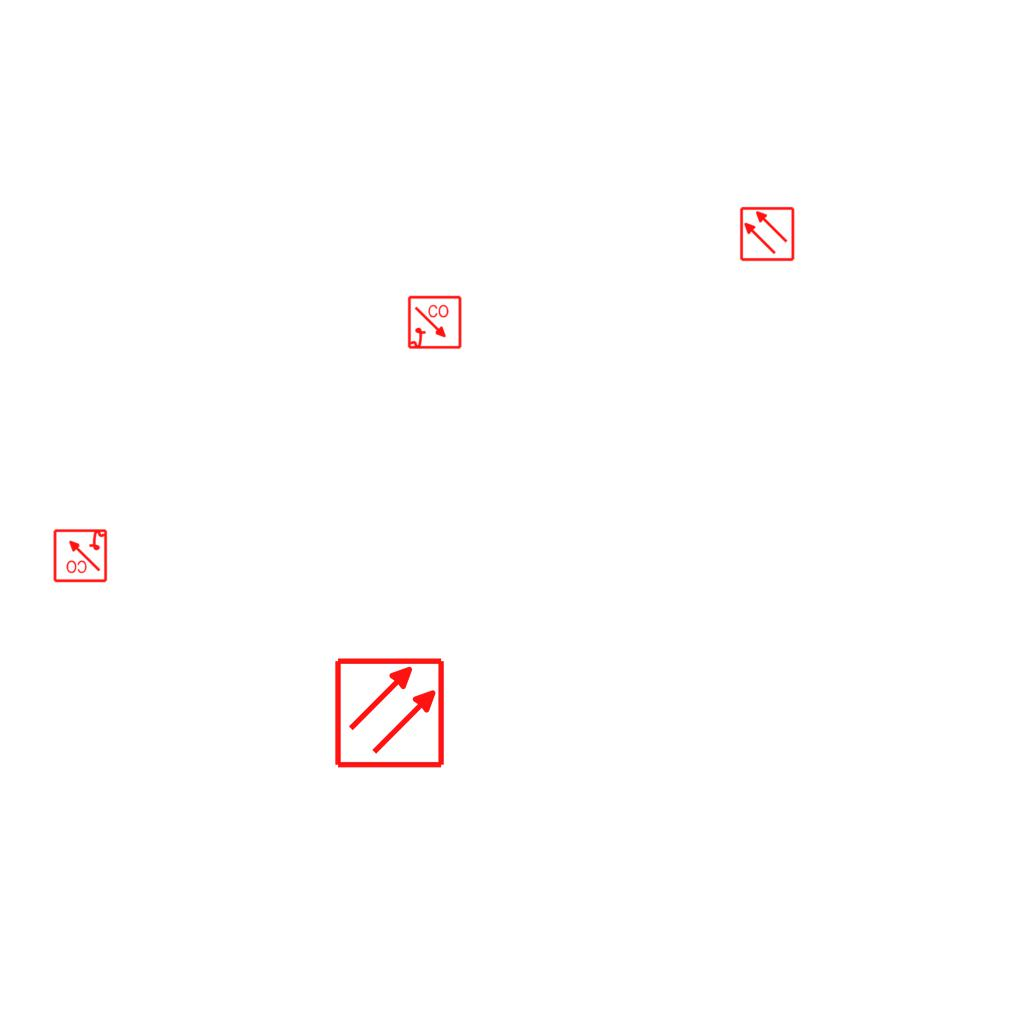RMO_Rauchmelder_optischer: (333, 656, 446, 769), (739, 206, 795, 262)
ROA_Rauchmelder_optisch_mit_Signalgeber_(Sockelsirene): (407, 295, 463, 351), (52, 527, 108, 583)
